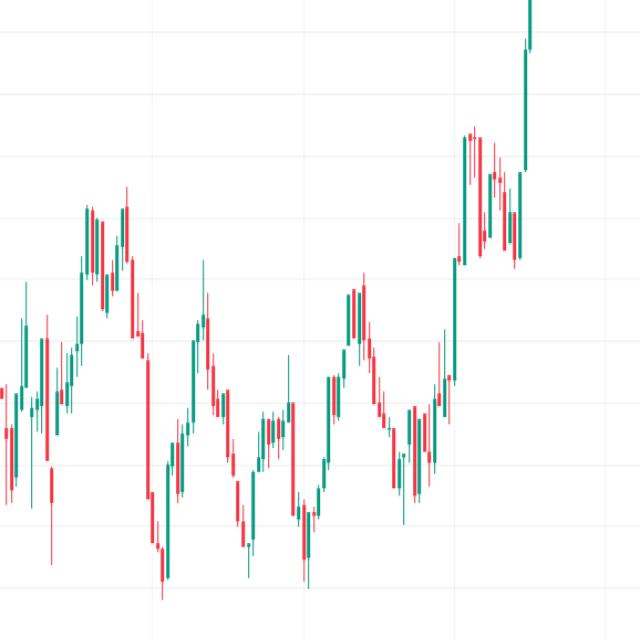Triple-Bottom: (138, 360, 349, 605)
